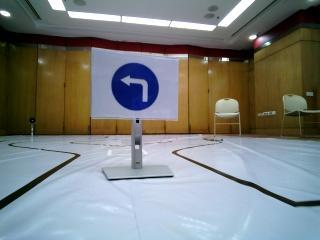left: (93, 52, 167, 117)
